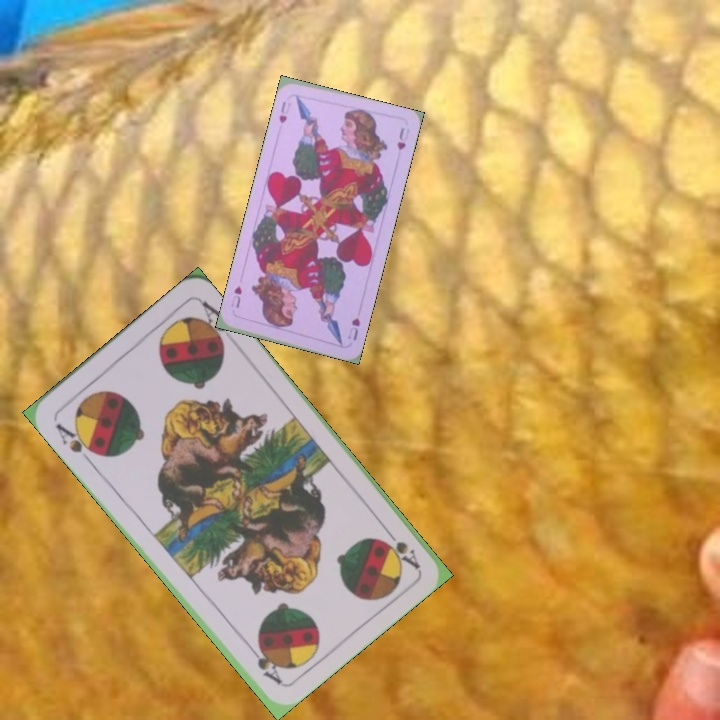HU: (344, 314, 363, 343), (275, 97, 293, 126)
SA: (51, 419, 101, 466), (378, 522, 423, 572)
